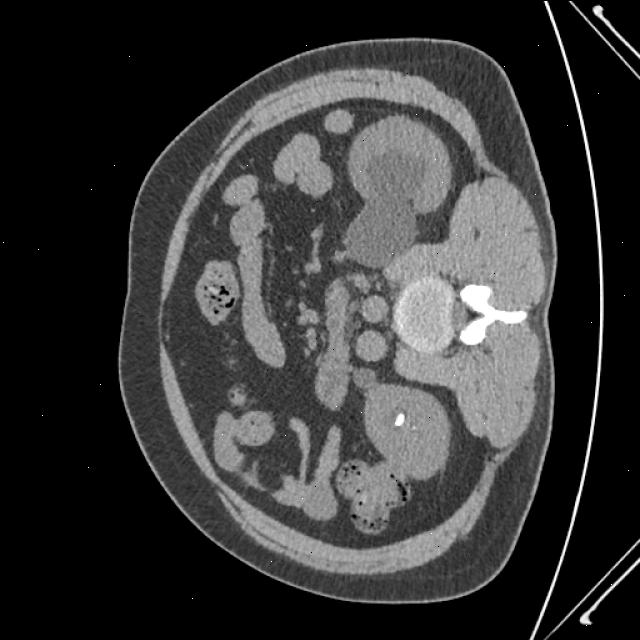kidneystone: (396, 411, 404, 425)
